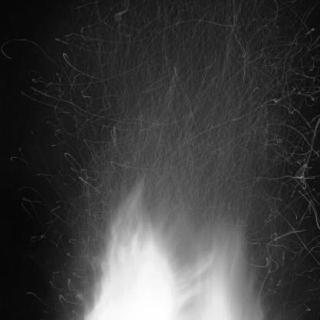Fire: (38, 20, 272, 320)
